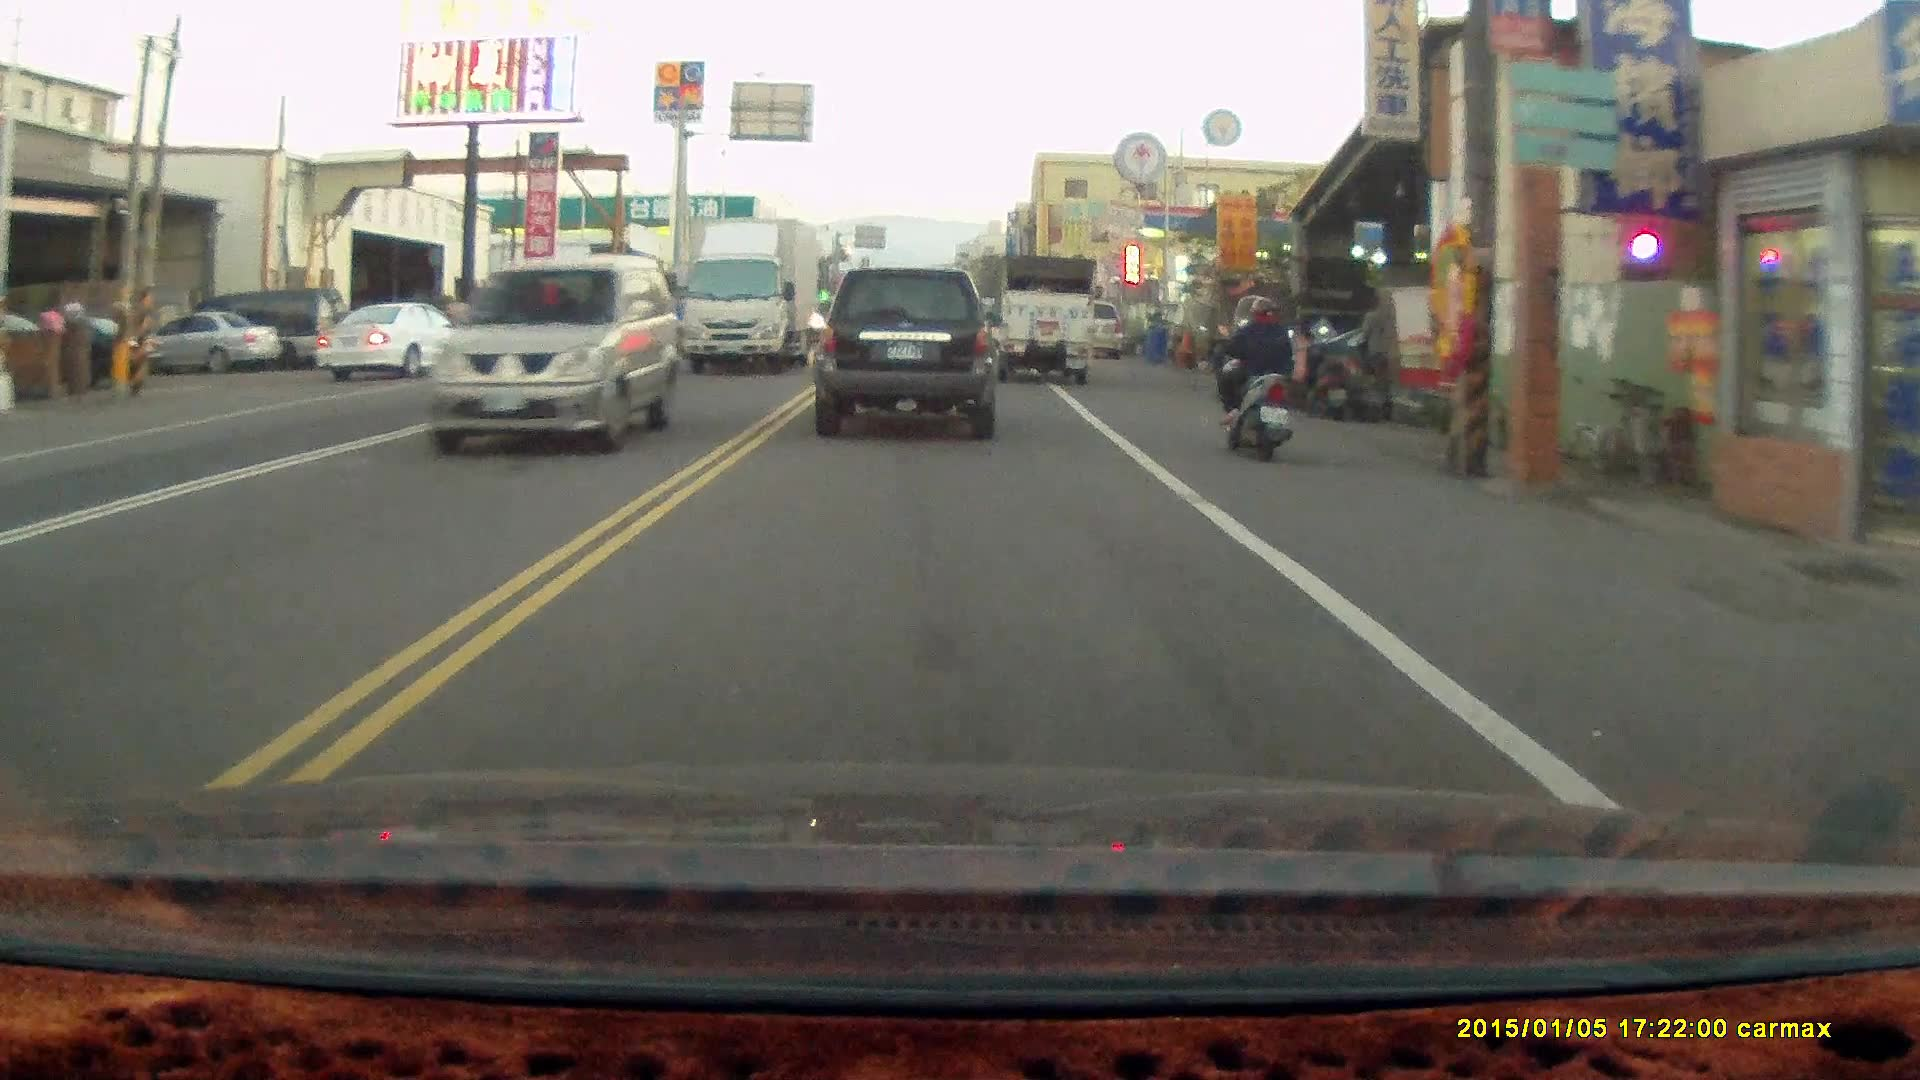pedestrian: (1357, 291, 1398, 407)
rider: (1204, 293, 1297, 463)
vehicle: (434, 256, 674, 457), (815, 258, 999, 434), (681, 219, 818, 379), (316, 297, 488, 386), (990, 252, 1096, 386), (153, 307, 287, 376)
